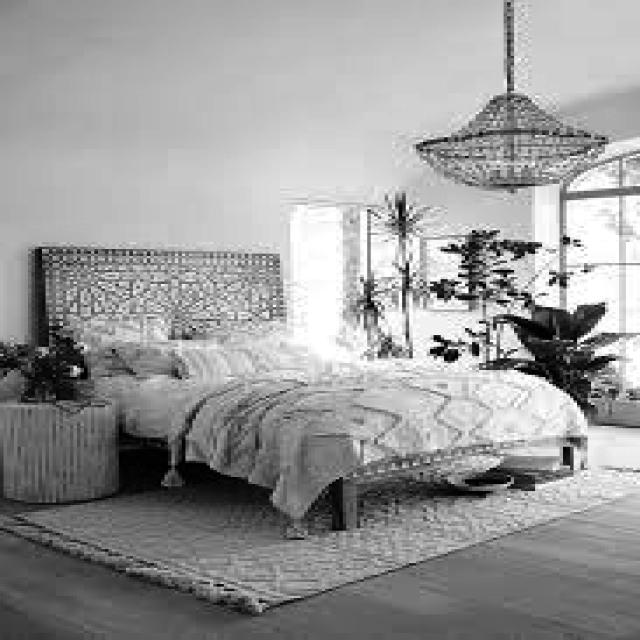bed: (21, 260, 571, 484)
